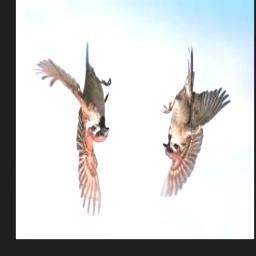Sparrow: (34, 41, 113, 217), (160, 45, 232, 199)
